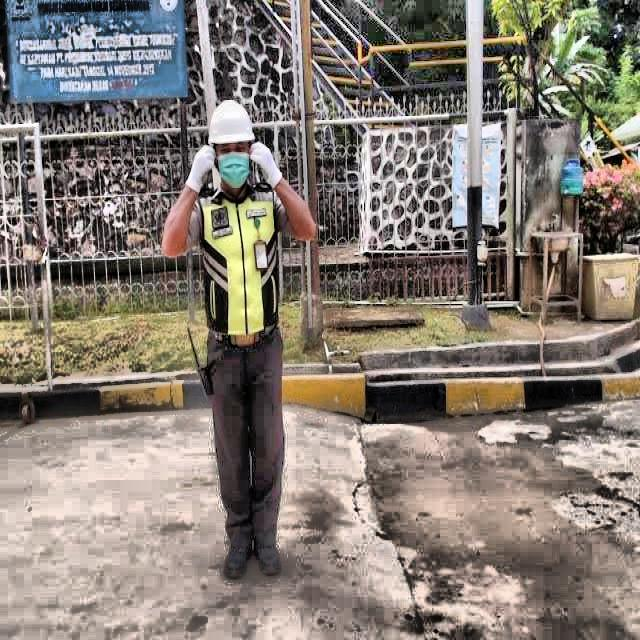safety_helmet: (204, 99, 257, 145)
safety_jacket: (195, 189, 286, 342)
